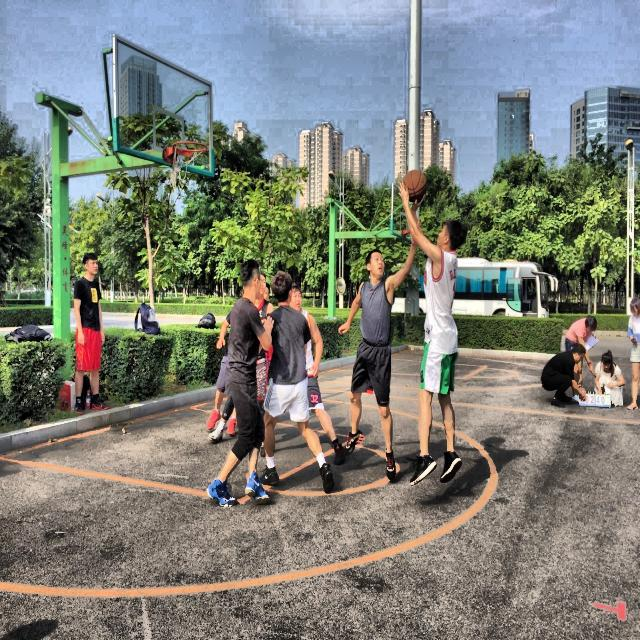board: (402, 169, 427, 206)
rim: (161, 136, 211, 195)
